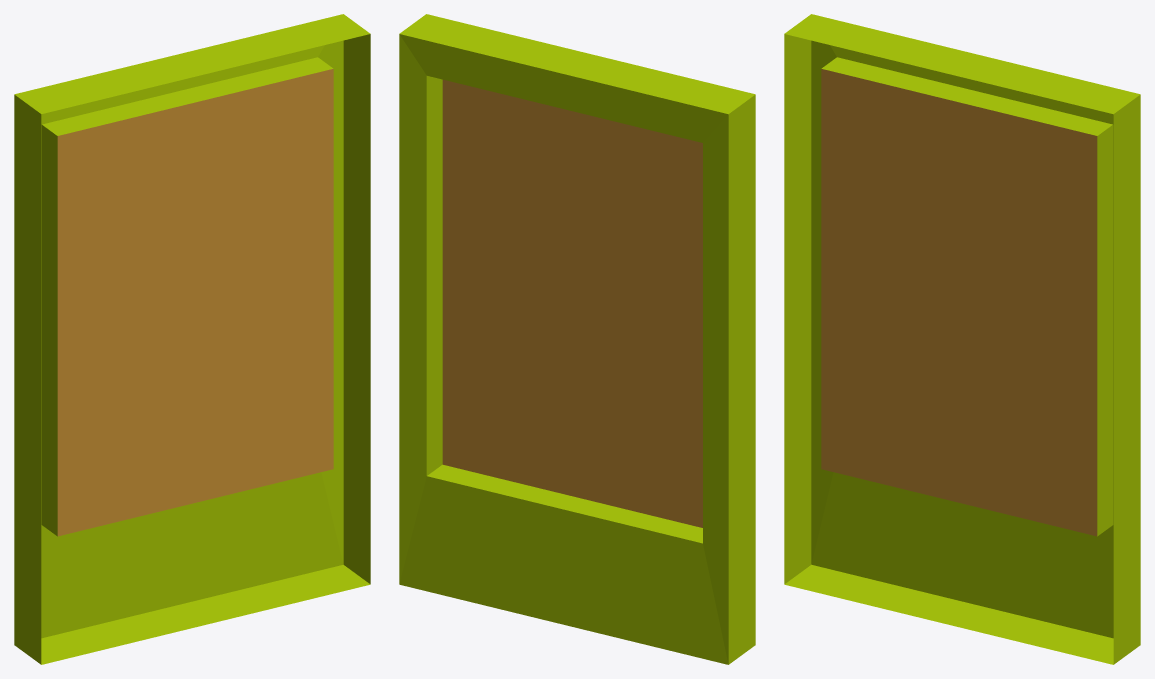
Rendered from Window1.fbx.
3 views of the same model, side by side, from view 1: azimuth 30°, elevation 25°; view 2: azimuth 150°, elevation 25°; view 3: azimuth 330°, elevation 25° (orthographic).
Visible parts, largest first — view 1: Cube.001; view 2: Cube.001; view 3: Cube.001.
Boxes of the visible parts, left/top/right/bottom form: Cube.001: left=14, top=14, right=370, bottom=664; Cube.001: left=399, top=14, right=755, bottom=664; Cube.001: left=784, top=14, right=1140, bottom=664.
Bounding box in the file's own units: 7.77 × 1.11 × 12.42.
